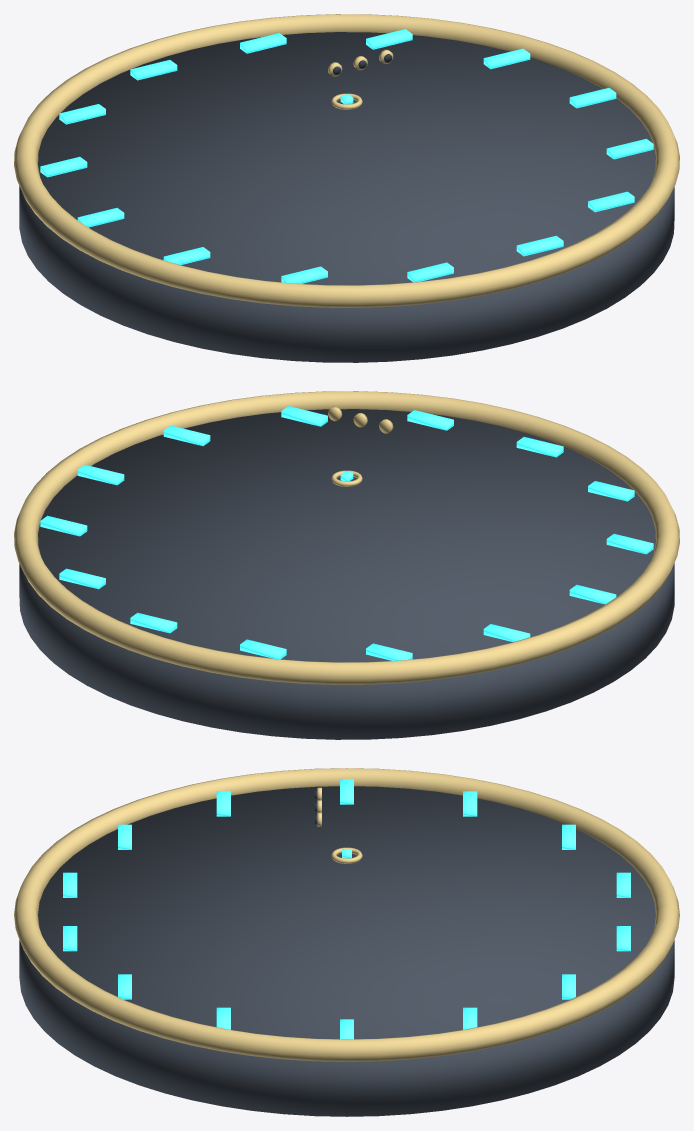
The model's file is 10_L93_SampleCoreDisplayCradle.fbx.
The picture shows the model from 3 angles, top to bottom: view 1: azimuth 30°, elevation 25°; view 2: azimuth 150°, elevation 25°; view 3: azimuth 270°, elevation 25°; orthographic projection.
Parts seen in each view (by area): view 1: L92_SampleCoreDisplayCradle_Part_0000, L92_SampleCoreDisplayCradle_Part_0001, L92_SampleCoreDisplayCradle_Part_0002; view 2: L92_SampleCoreDisplayCradle_Part_0000, L92_SampleCoreDisplayCradle_Part_0001, L92_SampleCoreDisplayCradle_Part_0002; view 3: L92_SampleCoreDisplayCradle_Part_0000, L92_SampleCoreDisplayCradle_Part_0001, L92_SampleCoreDisplayCradle_Part_0002.
Boxes of the visible parts, x1,y1,x2,y2 form: L92_SampleCoreDisplayCradle_Part_0000: [19, 32, 674, 362]; L92_SampleCoreDisplayCradle_Part_0001: [14, 14, 679, 307]; L92_SampleCoreDisplayCradle_Part_0002: [40, 29, 653, 283]; L92_SampleCoreDisplayCradle_Part_0000: [19, 409, 674, 739]; L92_SampleCoreDisplayCradle_Part_0001: [14, 391, 679, 684]; L92_SampleCoreDisplayCradle_Part_0002: [40, 406, 653, 660]; L92_SampleCoreDisplayCradle_Part_0000: [19, 786, 674, 1116]; L92_SampleCoreDisplayCradle_Part_0001: [14, 768, 679, 1061]; L92_SampleCoreDisplayCradle_Part_0002: [63, 779, 630, 1039].
Bounding box in the file's own units: 6.1 × 1.8 × 6.1.
